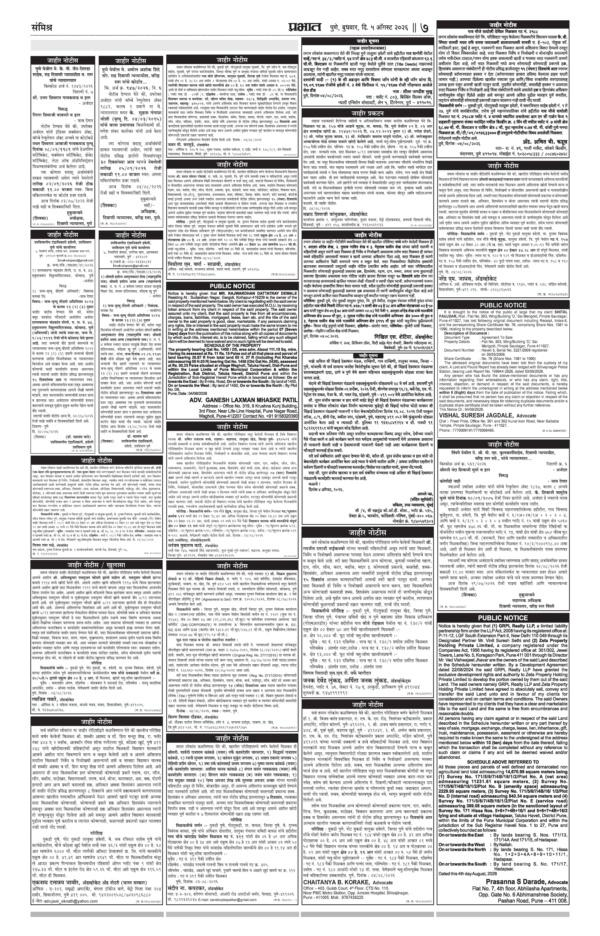Article: (434, 15, 589, 910), (298, 33, 433, 932), (165, 50, 298, 925), (19, 462, 163, 914), (21, 51, 93, 466), (94, 49, 160, 450)
